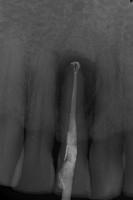Furcation Involvement: (56, 52, 96, 130)
